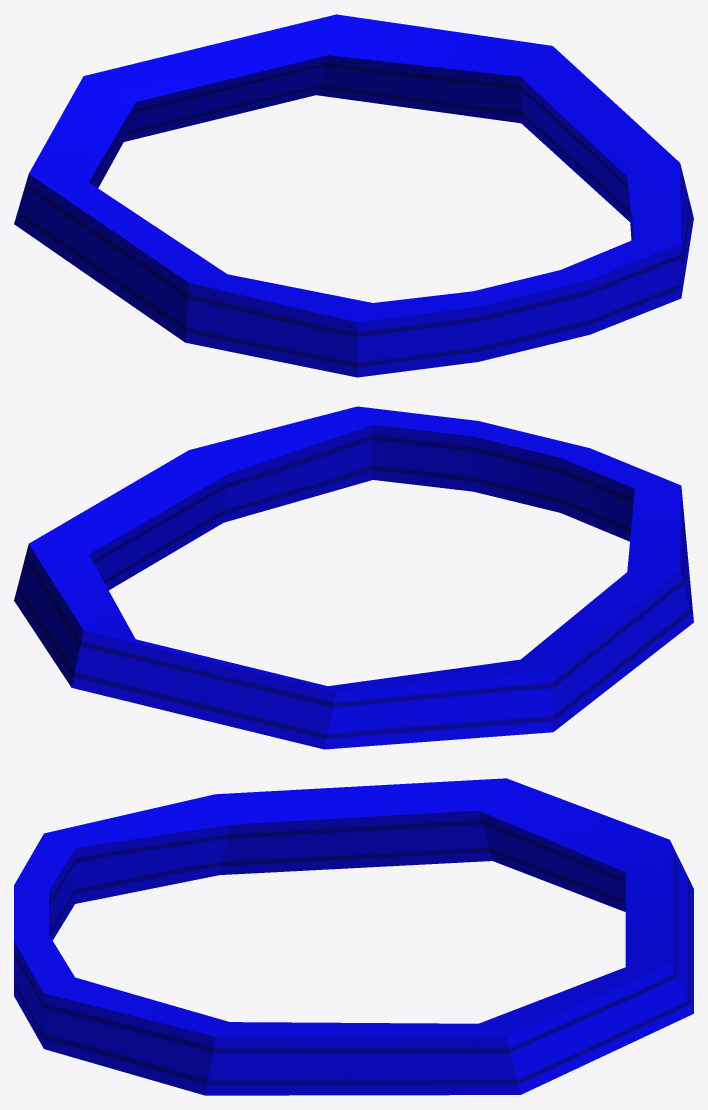
Rendered from CopperCirclet_M.fbx.
3 views of the same model, one above another, from view 1: azimuth 30°, elevation 25°; view 2: azimuth 150°, elevation 25°; view 3: azimuth 270°, elevation 25° (orthographic).
Visible parts, largest first — view 1: CopperCirclet_M; view 2: CopperCirclet_M; view 3: CopperCirclet_M.
Boxes of the visible parts, x1,y1,x2,y2 form: CopperCirclet_M: [14, 14, 693, 377]; CopperCirclet_M: [14, 406, 693, 749]; CopperCirclet_M: [14, 778, 693, 1095].
Size of the model in its own units: 24.13 by 3.21 by 26.05.
